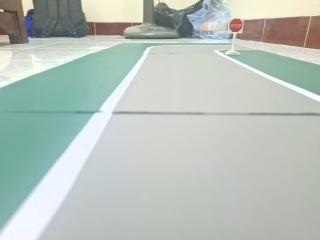stop: (225, 12, 246, 34)
